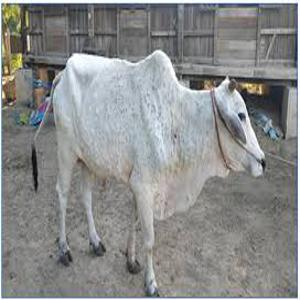lumpy skin diesease: (35, 48, 267, 296)
